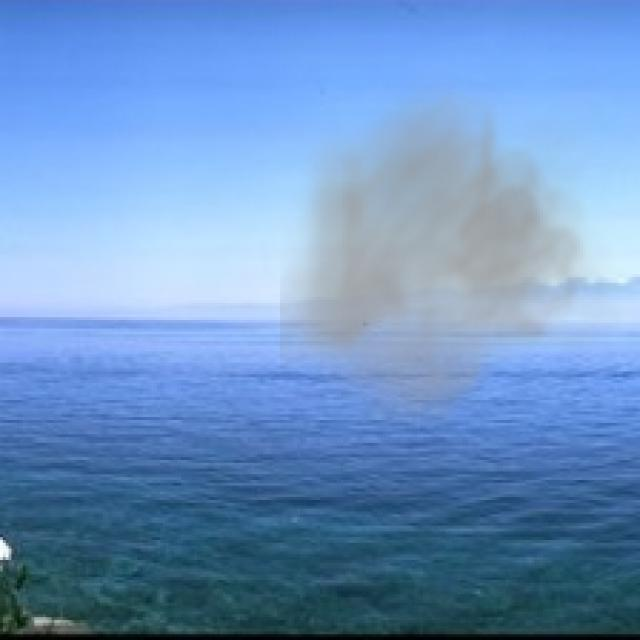smoke: (280, 74, 623, 440)
